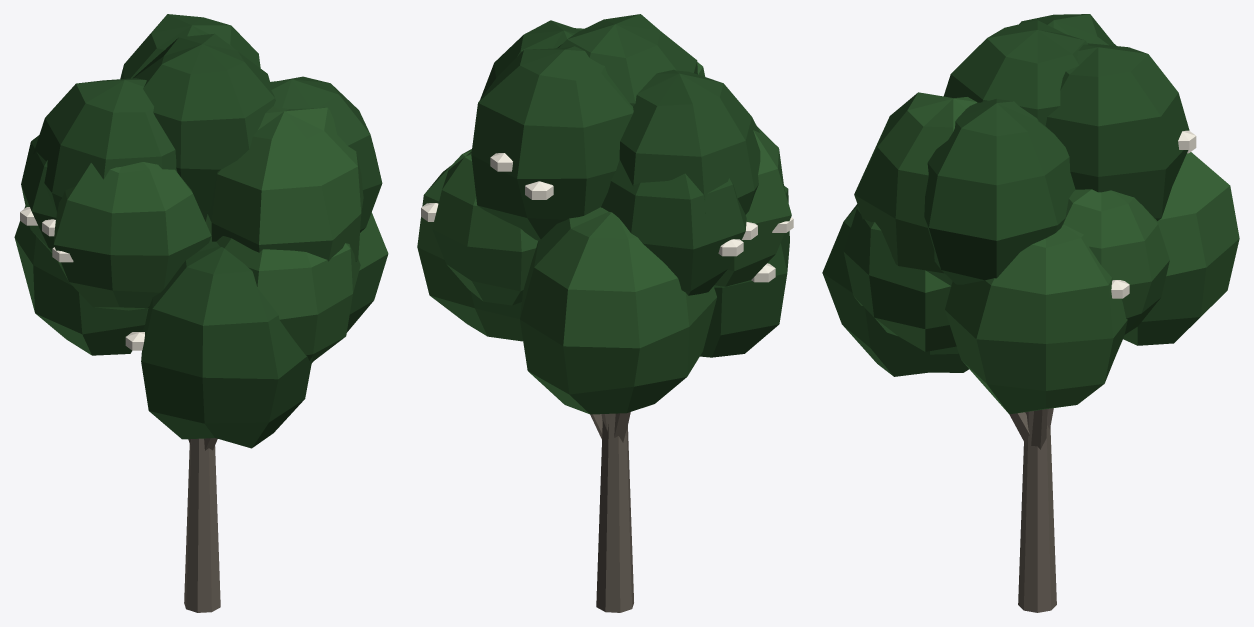
File: tree_magnolia_medium.glb
The picture shows the model from 3 angles, left to right: view 1: azimuth 30°, elevation 25°; view 2: azimuth 150°, elevation 25°; view 3: azimuth 270°, elevation 25°; orthographic projection. The views are drawn at different scales.
Parts seen in each view (by area): view 1: tree_magnolia_medium; view 2: tree_magnolia_medium; view 3: tree_magnolia_medium.
Boxes of the visible parts, x1,y1,x2,y2 form: tree_magnolia_medium: (14, 14, 388, 612); tree_magnolia_medium: (417, 14, 793, 612); tree_magnolia_medium: (822, 14, 1239, 612).
Size of the model in its own units: 5.6 by 9.23 by 6.07.
